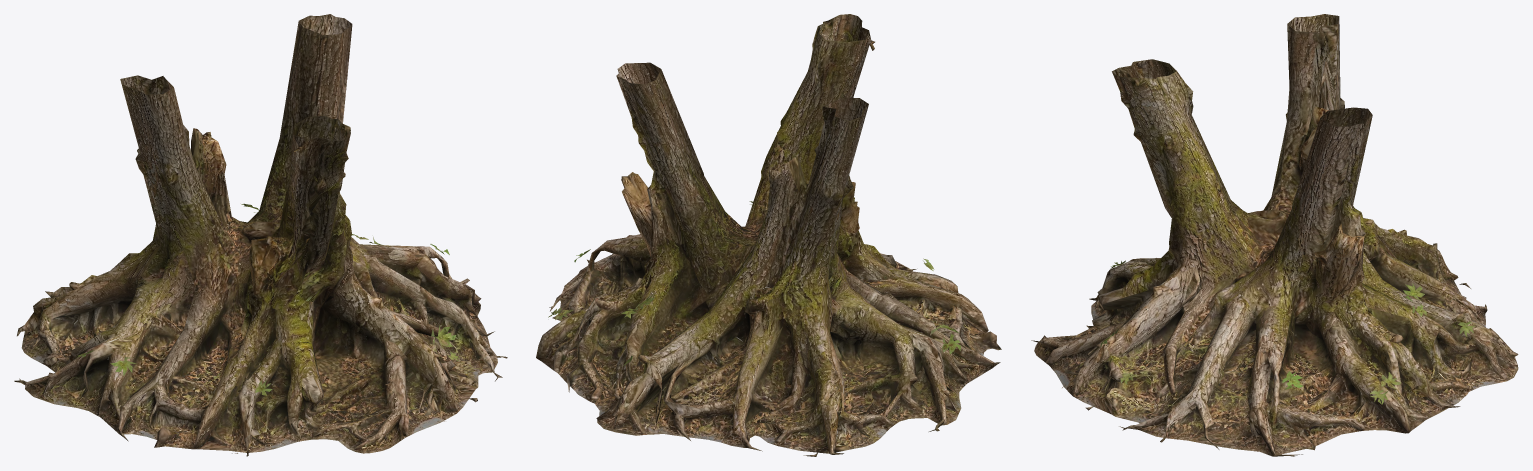
File: stump.glb
3 renders of one model, left to right at view 1: azimuth 30°, elevation 25°; view 2: azimuth 150°, elevation 25°; view 3: azimuth 270°, elevation 25°, orthographic.
Parts seen in each view (by area): view 1: stump; view 2: stump; view 3: stump.
Boxes of the visible parts, left/top/right/bottom form: stump: left=14, top=14, right=507, bottom=456; stump: left=536, top=14, right=1001, bottom=456; stump: left=1031, top=14, right=1518, bottom=456.
Size of the model in its own units: 1 by 0.6438 by 1.
Materials: 1 (1 with a texture image).
